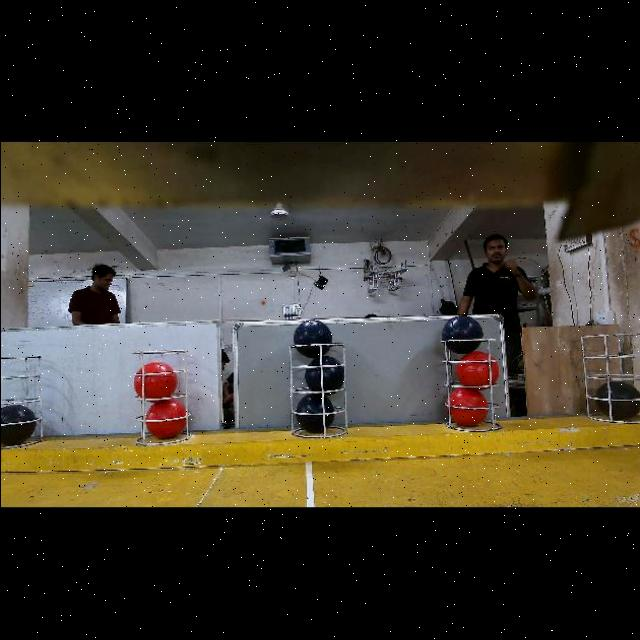P: (595, 379, 640, 416), (440, 314, 482, 353), (304, 354, 344, 393), (295, 392, 334, 431), (293, 318, 332, 357), (0, 403, 35, 444)
R: (144, 398, 186, 438), (133, 360, 177, 397), (448, 387, 487, 426), (456, 350, 498, 386)
S: (132, 345, 198, 441), (440, 336, 500, 432), (290, 342, 350, 434), (580, 328, 640, 418), (0, 351, 48, 453)
